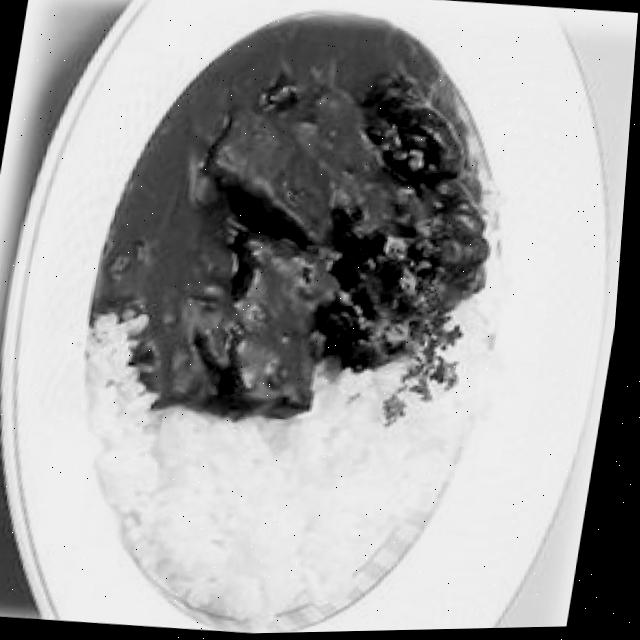牛肉菜式: (41, 0, 573, 639)
